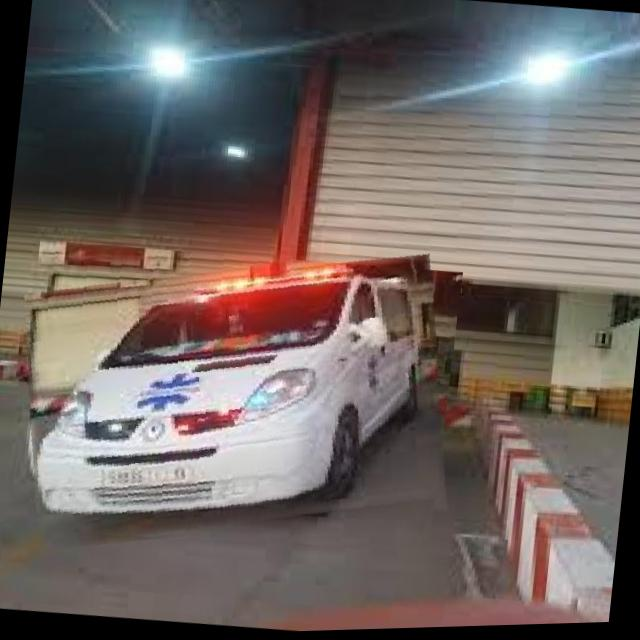ambulance: (9, 230, 462, 575)
